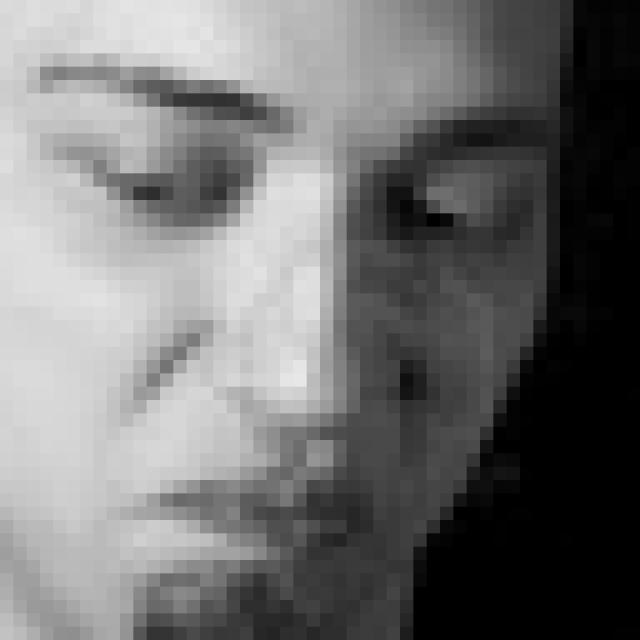disgust: (28, 53, 553, 564)
